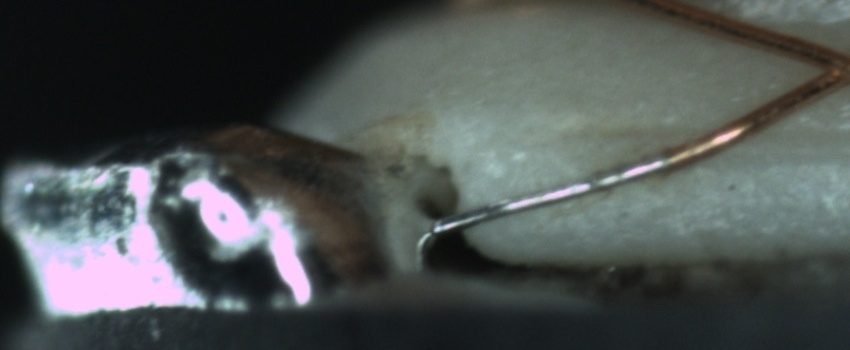CL: (794, 36, 850, 93)
DL: (523, 104, 843, 175)
TS: (429, 152, 666, 231)
